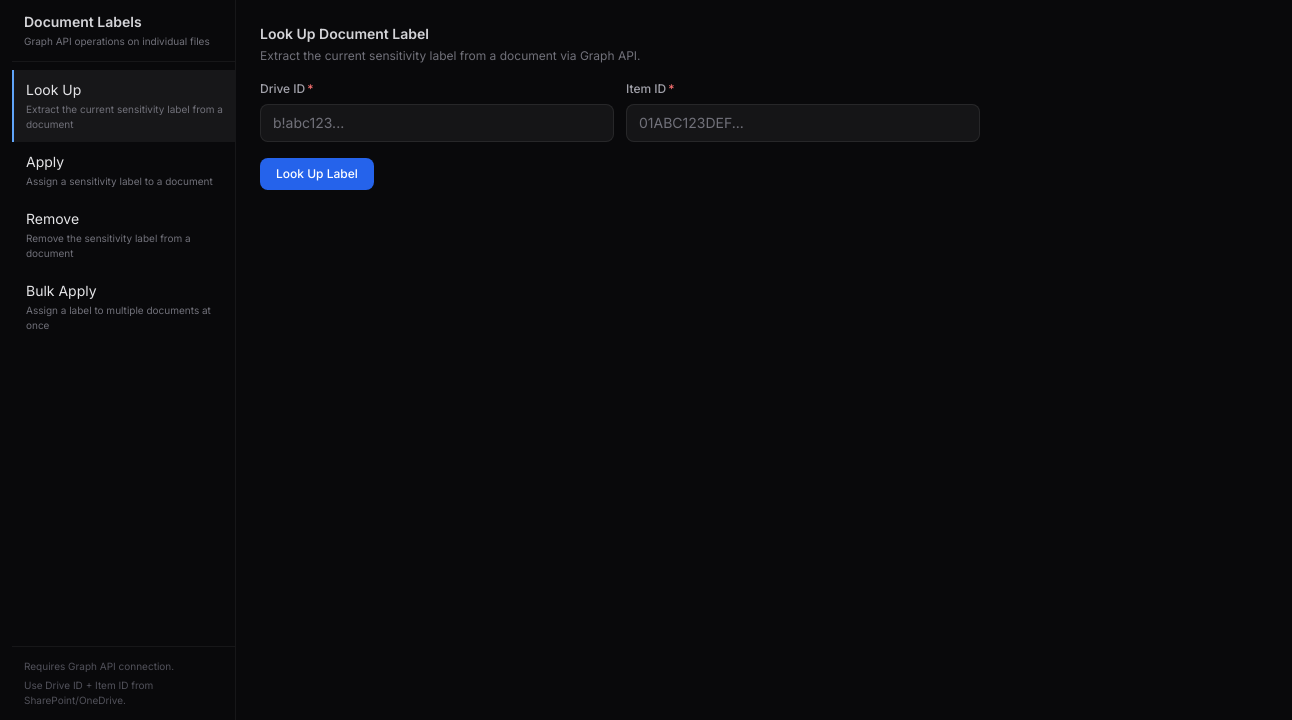
Test: DocumentsPage › Look Up shows "no label" message when empty labels array
The width and height of the screenshot is (1292, 720).
In the field with placeholder "b!abc123...": (437, 123) [260,104,614,142], type "b!drive"
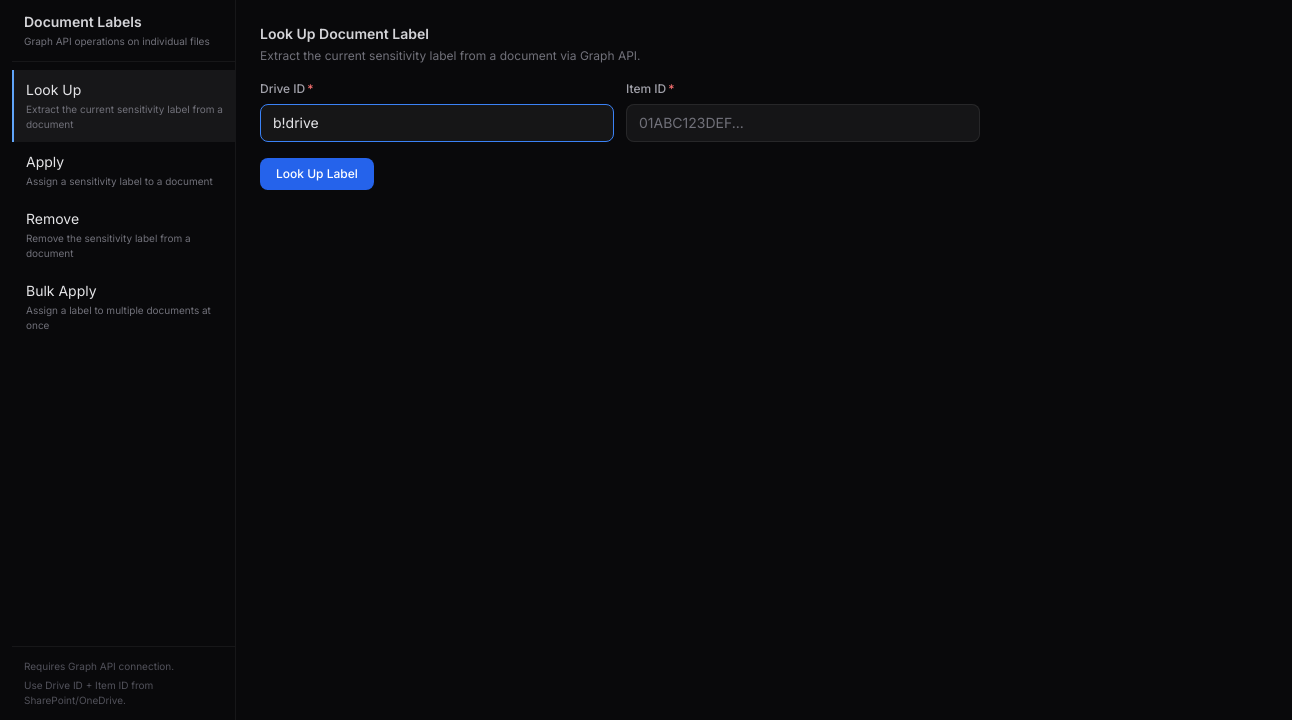
In the field with placeholder "01ABC123DEF...": (803, 123) [626,104,980,142], type "01ITEM"
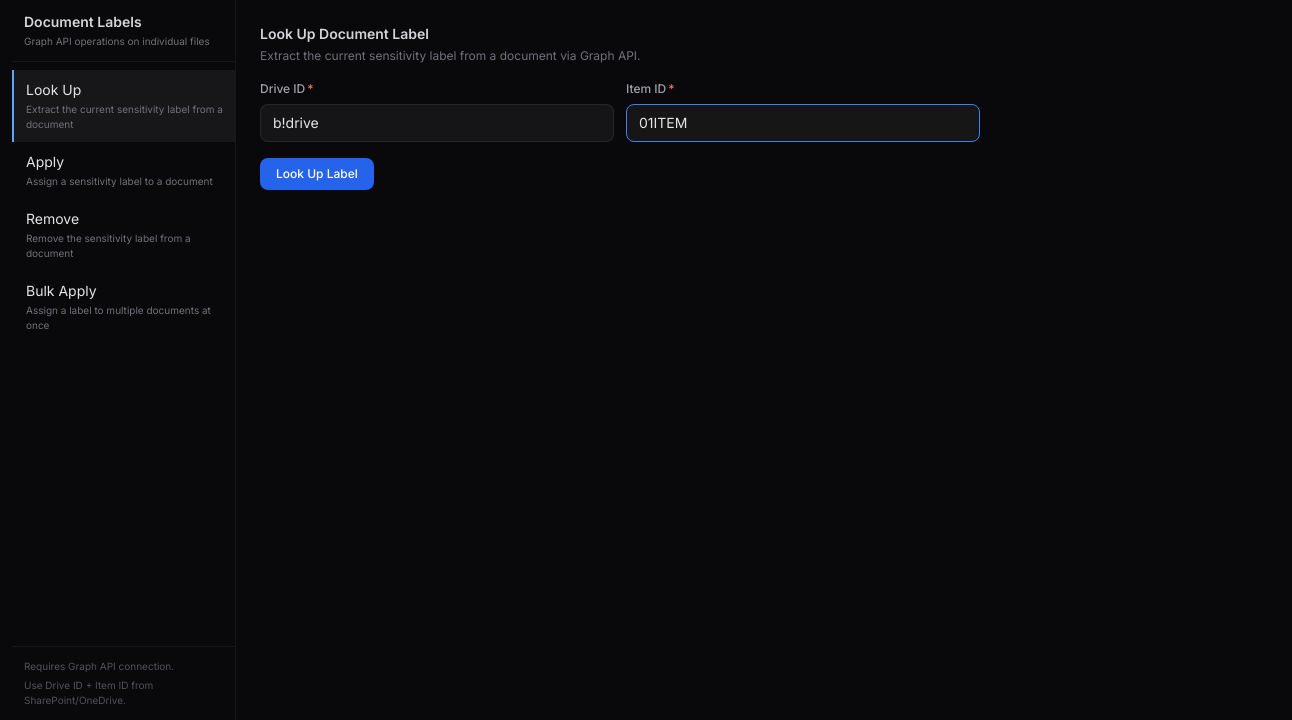
Click the button "Look Up Label": (317, 174) [260,158,374,190]
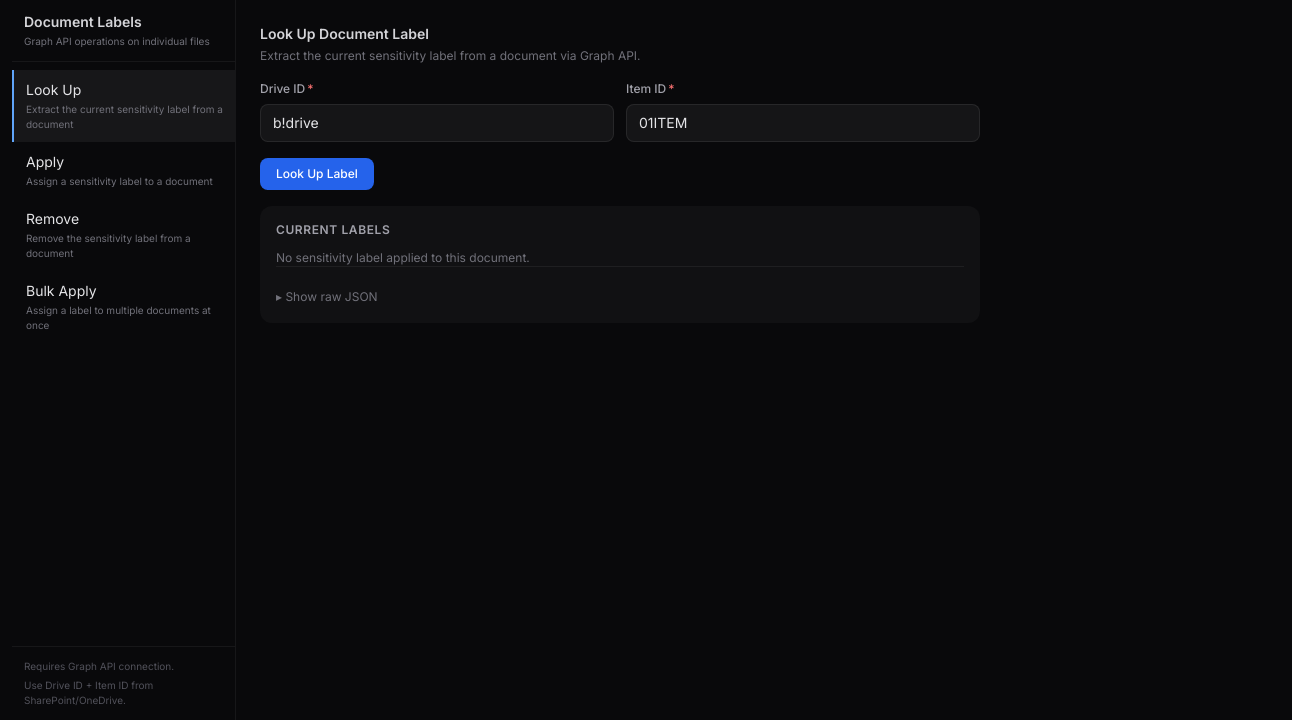
expect the text "No sensitivity label applied to this document." is shown: met, box [276,250,530,265]
